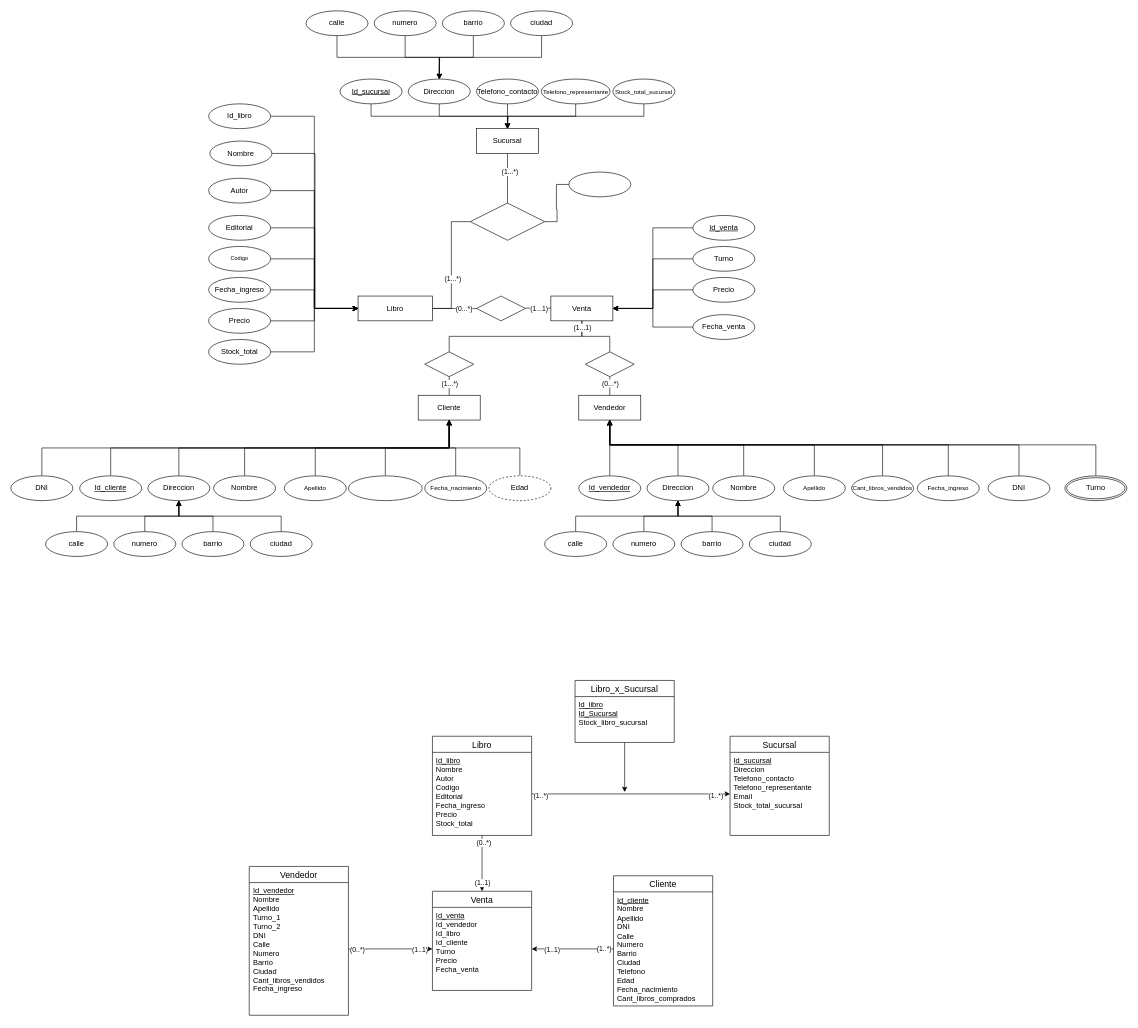
Image size: 1138x1028. Some labels were removed from this diagram. The centre of each missing label's shape, as x and y in pixels:
Cant_libros_comprados: point (385, 488)
Stock_libro_sucursal: point (599, 184)
